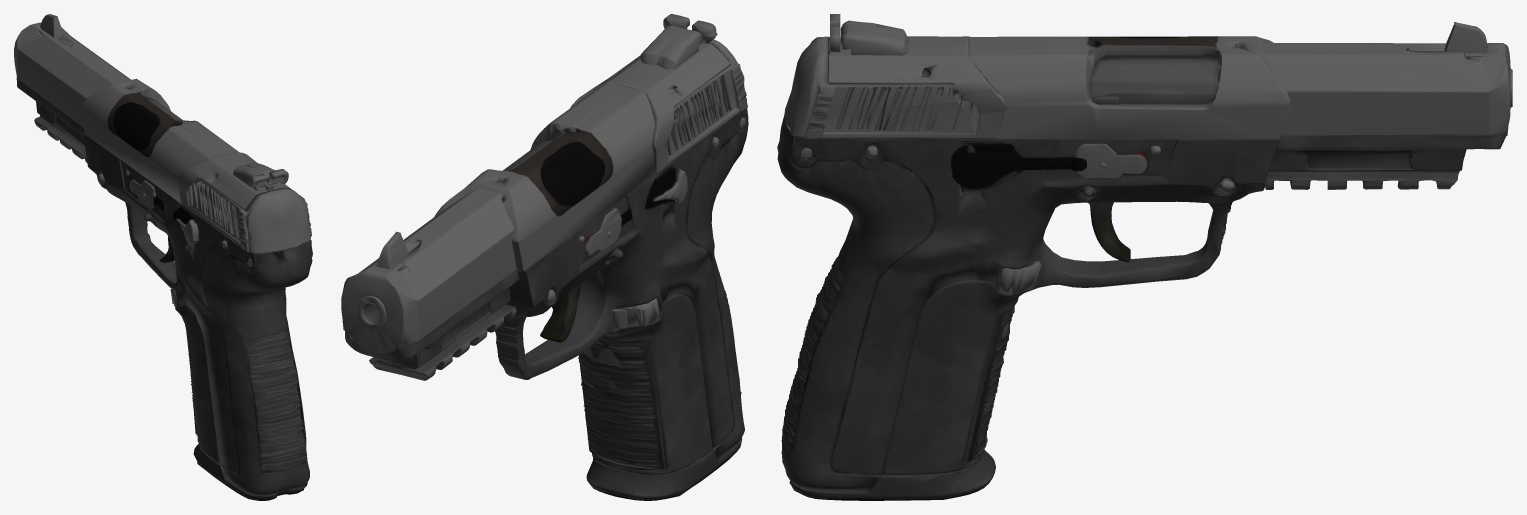
File: fiveseven.glb
3 renders of one model, left to right at view 1: azimuth 30°, elevation 25°; view 2: azimuth 150°, elevation 25°; view 3: azimuth 270°, elevation 25°, orthographic. The views are drawn at different scales.
Visible parts, largest first — view 1: govde; view 2: govde; view 3: govde.
Part boxes in pixels (x1,y1,x2,y2): govde: (14, 14, 312, 500); govde: (341, 14, 748, 500); govde: (777, 14, 1512, 500).
Bounding box in the file's own units: 0.0364 × 0.1425 × 0.208.
1 material, 1 textured.
